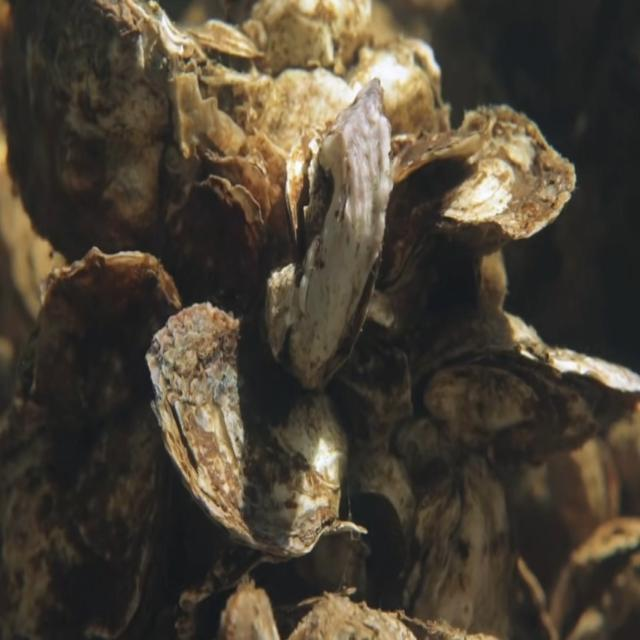Oyster-Closed: (0, 245, 184, 640), (144, 301, 352, 559), (262, 77, 394, 393), (409, 311, 640, 478), (382, 104, 576, 292), (395, 450, 518, 640)
Oyster-Indeterminate: (0, 0, 221, 272), (163, 172, 267, 326)
Oyster-Open: (230, 522, 369, 640)
